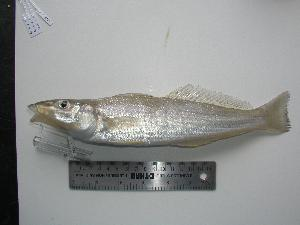kiss: (26, 82, 295, 150)
